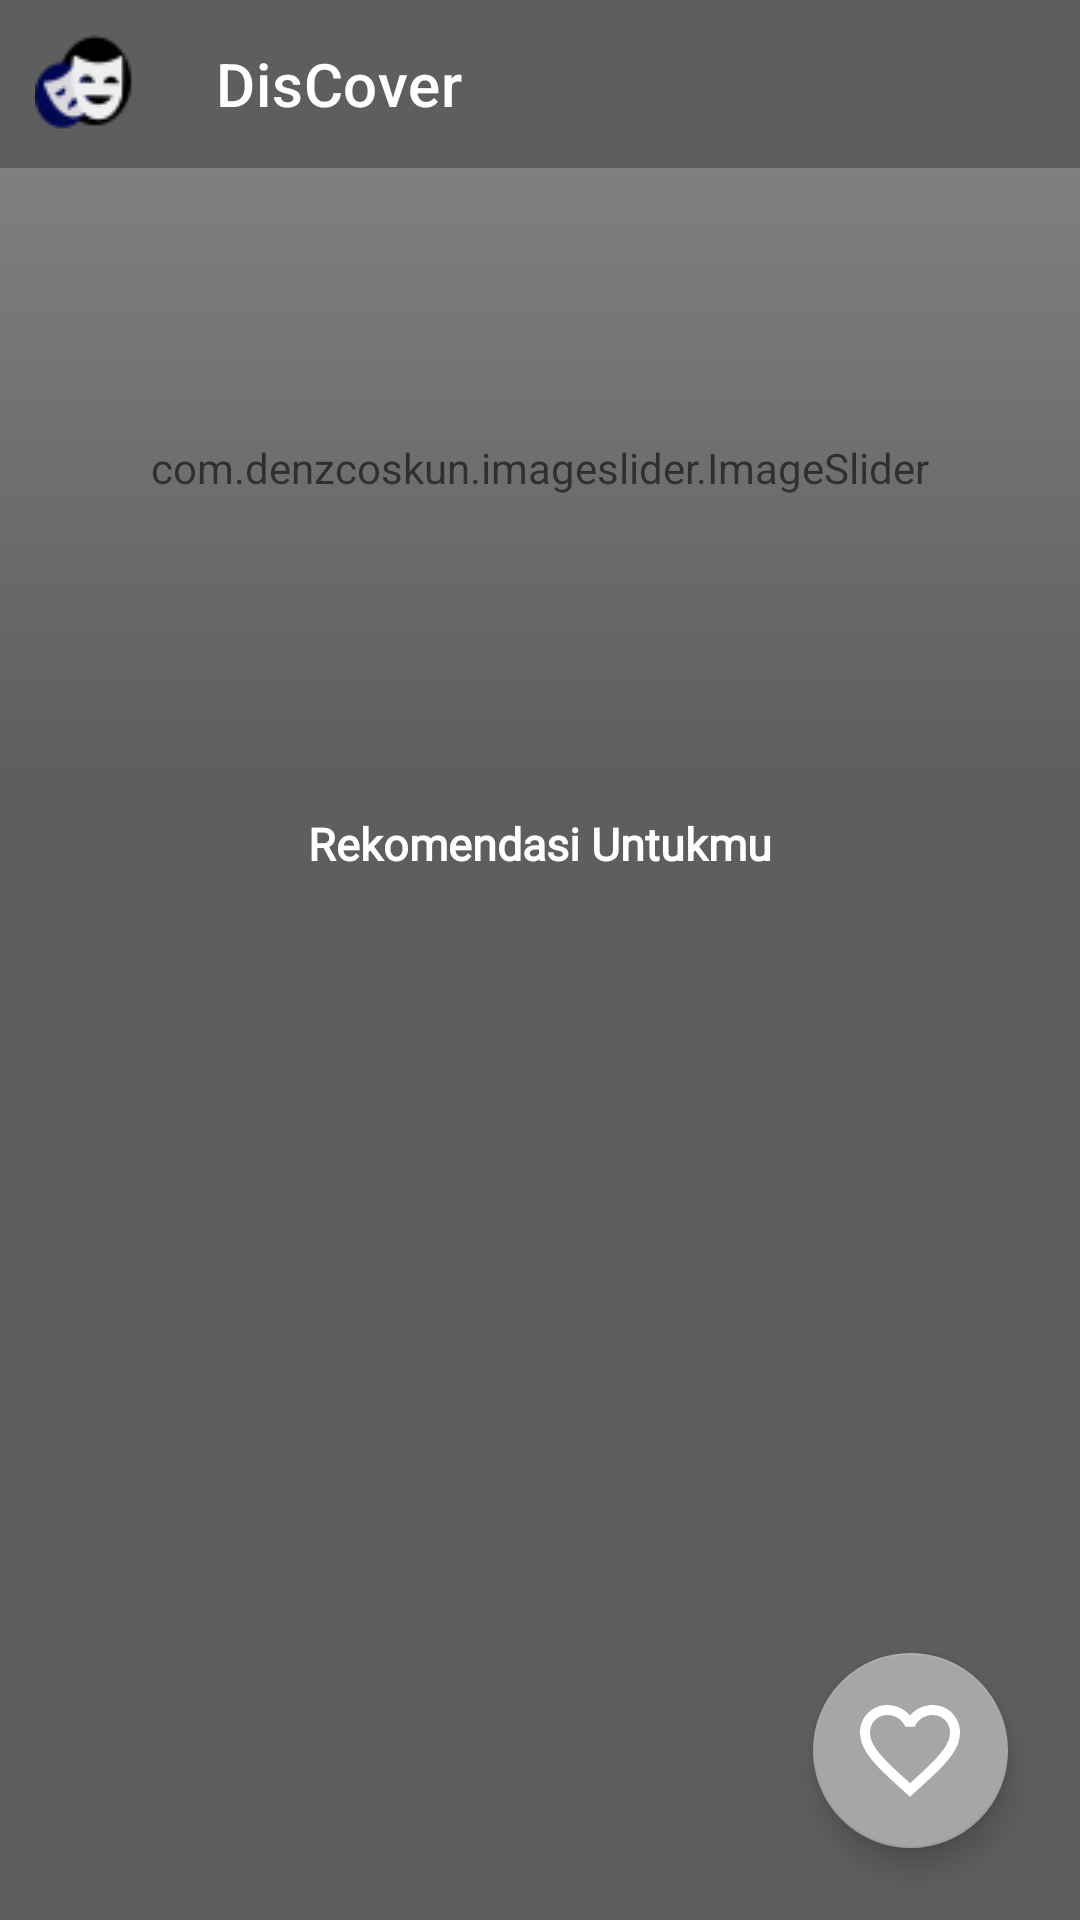

Icons on this 1080×1920 Android screen, each with the point to tap as (x,y):
love: (910,1750)
